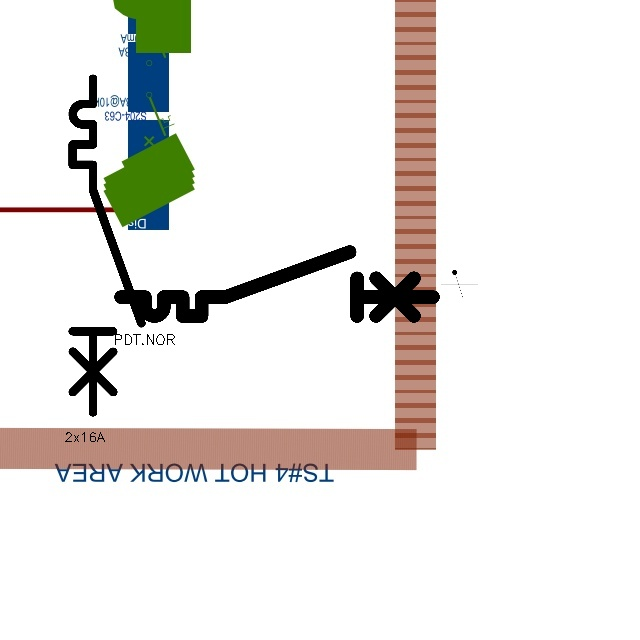interruptor_termomagnetico: (64, 70, 150, 421), (113, 244, 441, 324)
